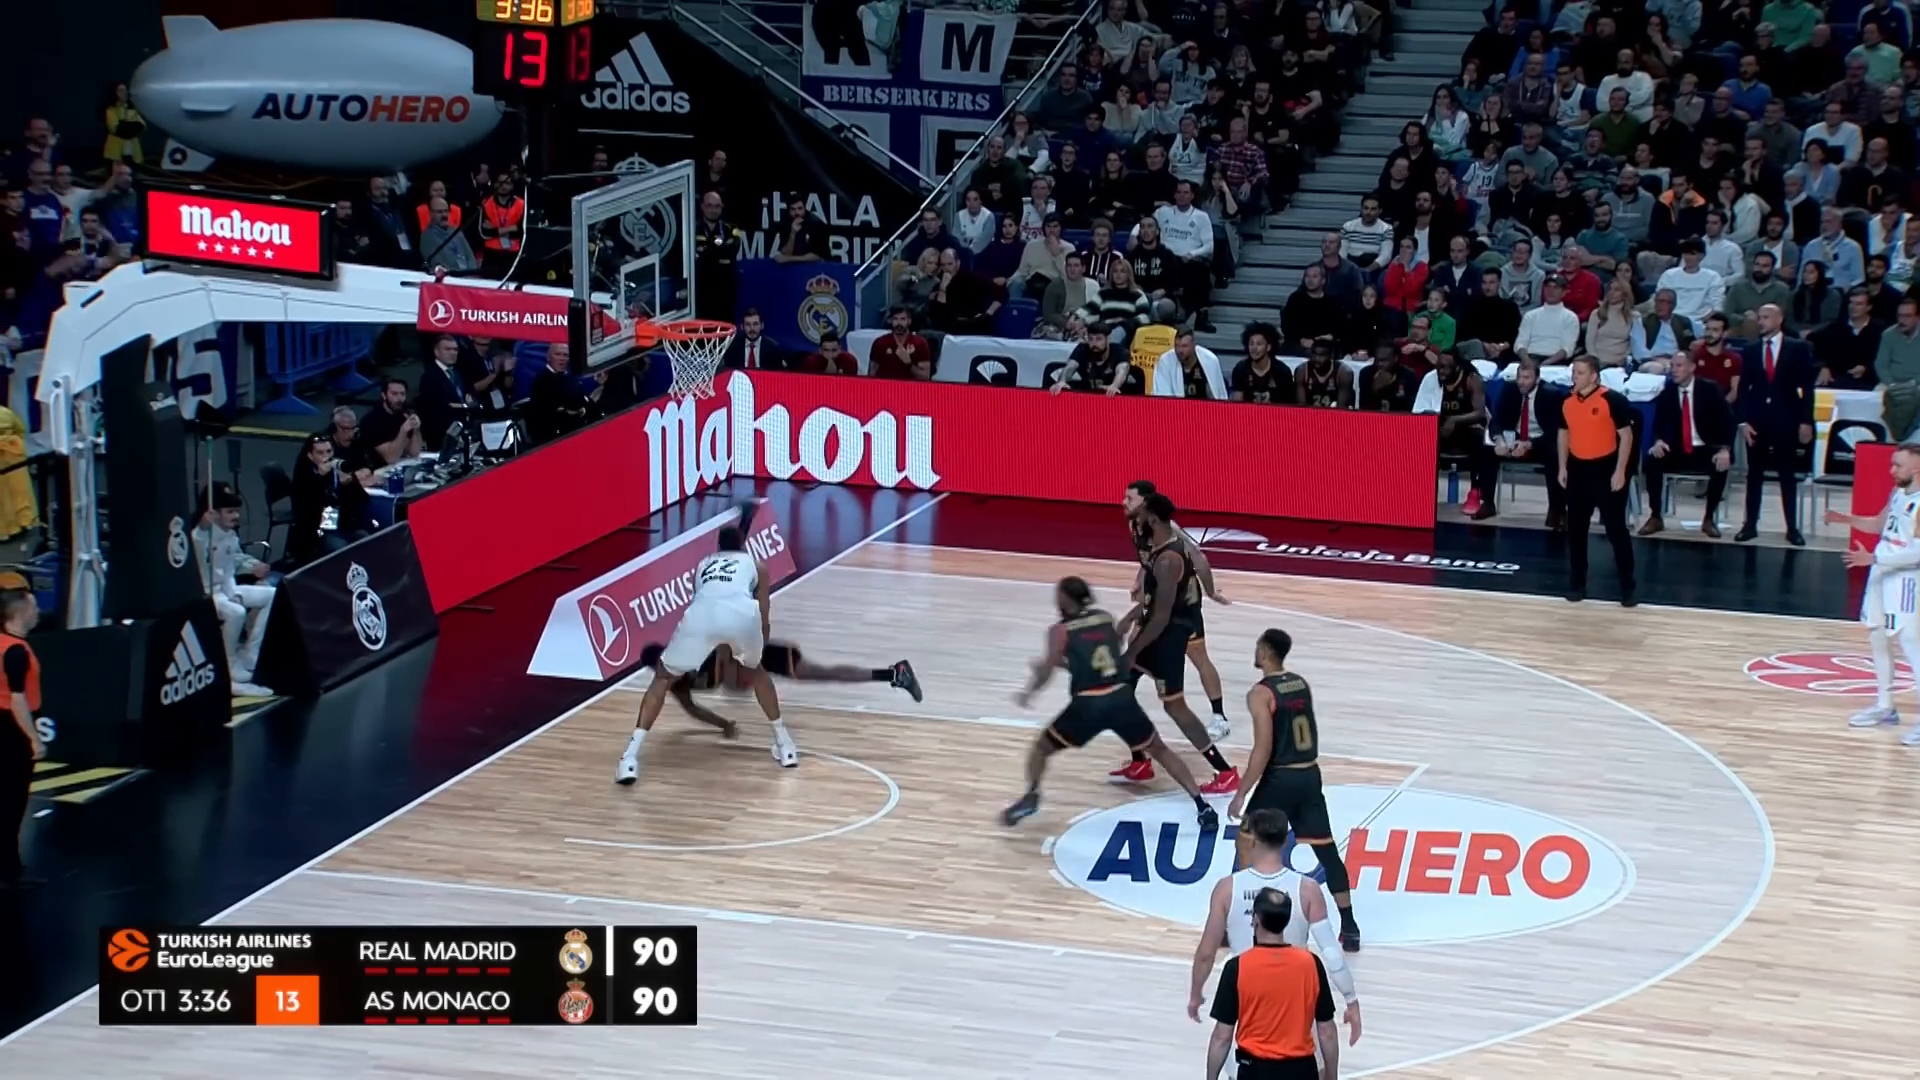net: (659, 316, 738, 402)
